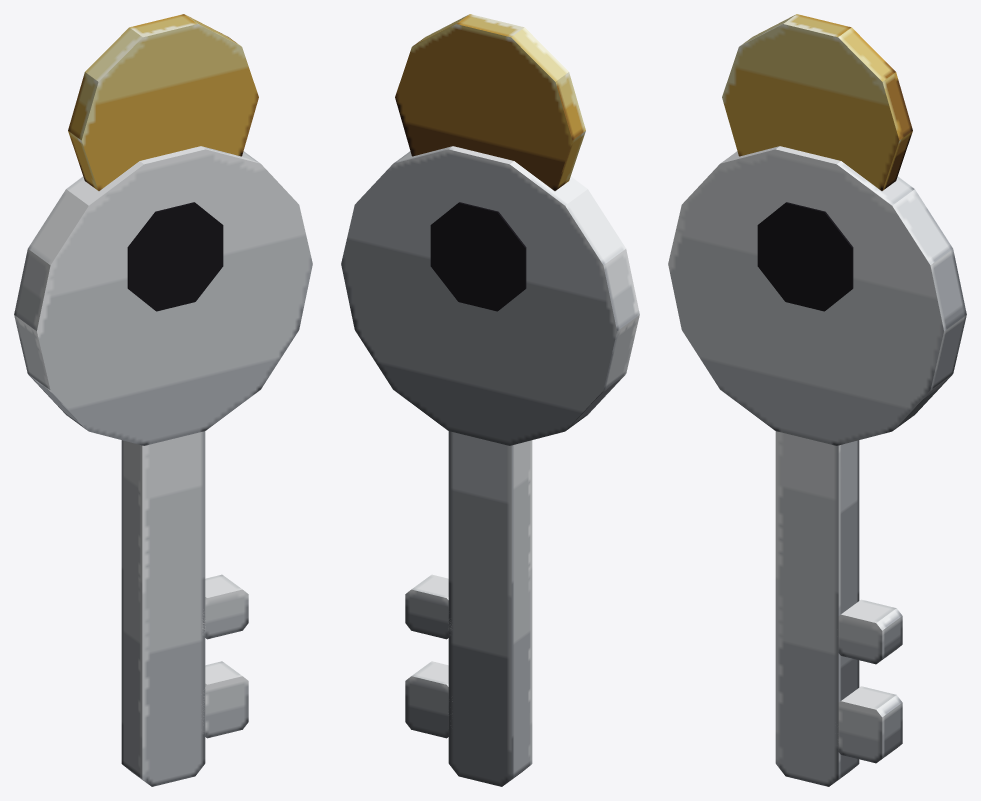
Rendered from mkey.glb.
3 renders of one model, left to right at view 1: azimuth 30°, elevation 25°; view 2: azimuth 150°, elevation 25°; view 3: azimuth 330°, elevation 25°, orthographic.
Visible parts, largest first — view 1: body; view 2: body; view 3: body.
Boxes of the visible parts, x1=… form: body: x1=14, y1=14, x2=312, y2=786; body: x1=341, y1=14, x2=639, y2=786; body: x1=668, y1=14, x2=966, y2=786.
Bounding box in the file's own units: 0.014 × 0.0363 × 0.0022.
Materials: 2 (2 with a texture image).
